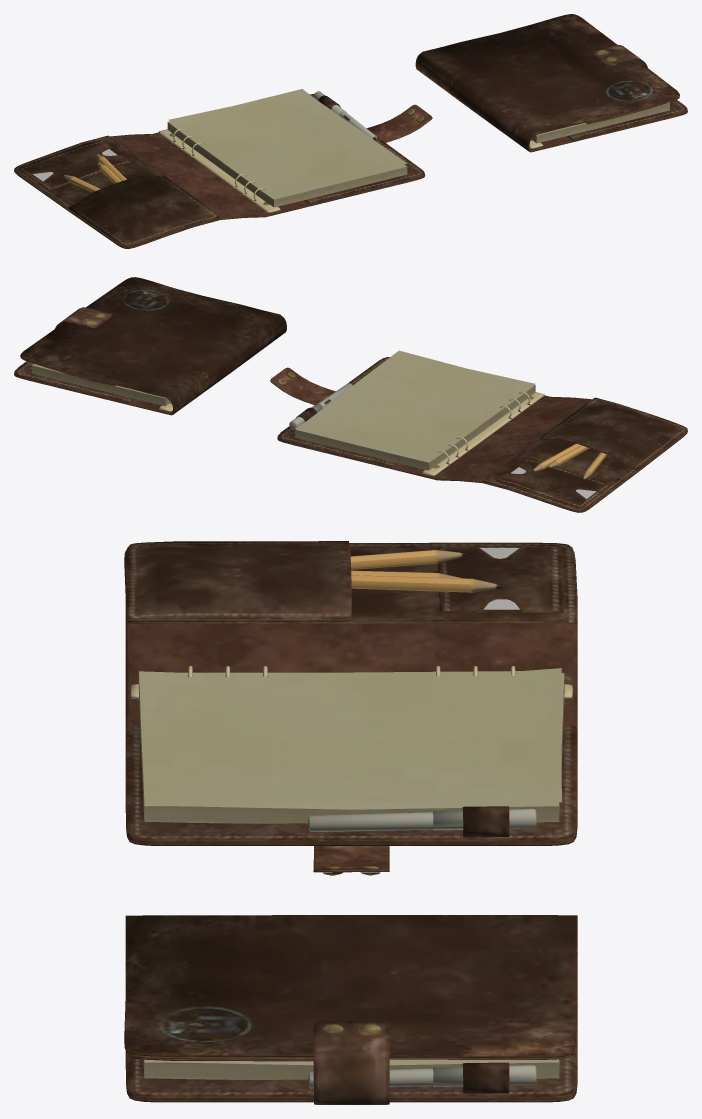
Rendered from binder_notebook.glb.
3 views of the same model, one above another, from view 1: azimuth 30°, elevation 25°; view 2: azimuth 150°, elevation 25°; view 3: azimuth 270°, elevation 25° (orthographic). The views are drawn at different scales.
Visible parts, largest first — view 1: binder_notebook; view 2: binder_notebook; view 3: binder_notebook.
Part boxes in pixels (<box>): binder_notebook: <box>14,14,687,248</box>; binder_notebook: <box>14,277,687,512</box>; binder_notebook: <box>124,541,577,1104</box>.
Size of the model in its own units: 0.5836 by 0.0252 by 0.1999.
Materials: 1 (1 with a texture image).
